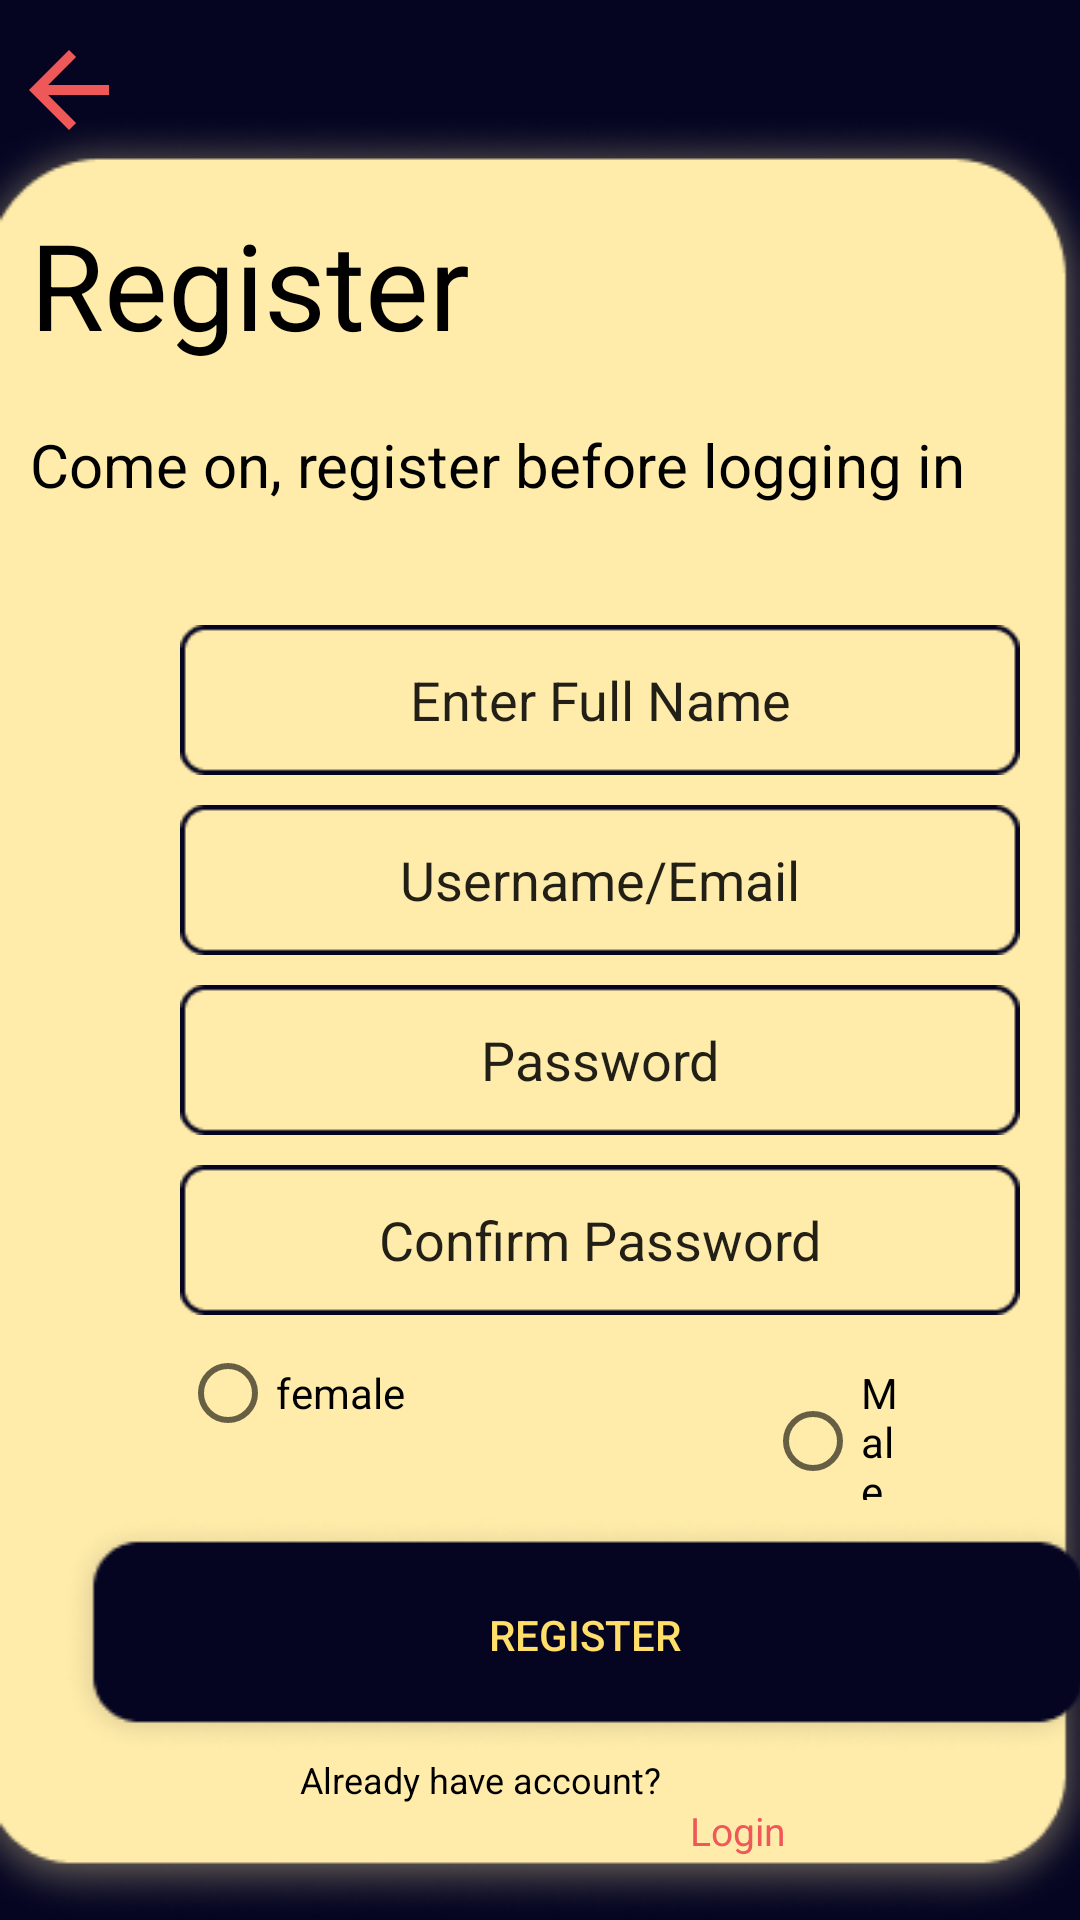

Named icons in this screenshot (1080*1920) and their bounding boxes, (x1, y1, x2, y2):
arrow back: (29, 50, 109, 130)
